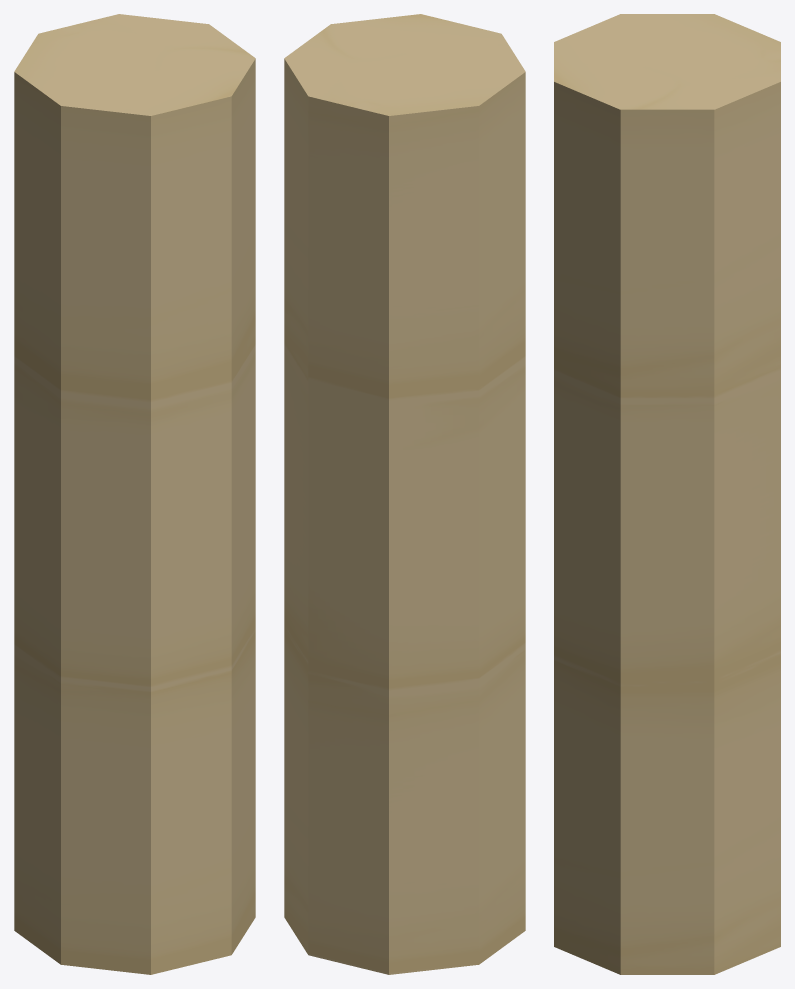
Rendered from Octagon pillar.fbx.
The picture shows the model from 3 angles, left to right: view 1: azimuth 30°, elevation 25°; view 2: azimuth 150°, elevation 25°; view 3: azimuth 270°, elevation 25°; orthographic projection.
Visible parts, largest first — view 1: pCylinder32; view 2: pCylinder32; view 3: pCylinder32.
Boxes of the visible parts, <box> form: pCylinder32: <box>14,14,255,974</box>; pCylinder32: <box>284,14,525,974</box>; pCylinder32: <box>554,14,780,974</box>.
Size of the model in its own units: 0.4751 by 2 by 0.4751.
1 material, 1 textured.
